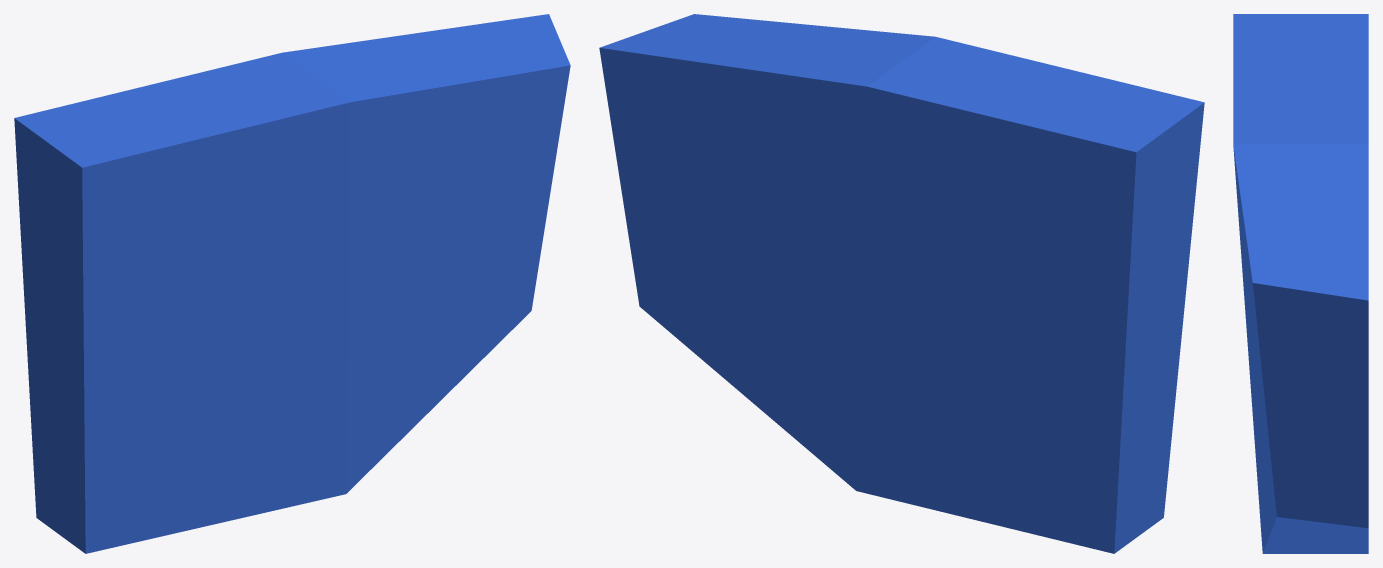
The model's file is Collision_Hammer_Rack.fbx.
3 views of the same model, side by side, from view 1: azimuth 30°, elevation 25°; view 2: azimuth 150°, elevation 25°; view 3: azimuth 270°, elevation 25° (orthographic).
Visible parts, largest first — view 1: UCX_Hammer_Rack_1; view 2: UCX_Hammer_Rack_1; view 3: UCX_Hammer_Rack_1.
Part boxes in pixels (<box>): UCX_Hammer_Rack_1: <box>14,14,570,553</box>; UCX_Hammer_Rack_1: <box>599,14,1204,553</box>; UCX_Hammer_Rack_1: <box>1233,14,1368,553</box>.
Size of the model in its own units: 70.08 by 50.75 by 15.41.
